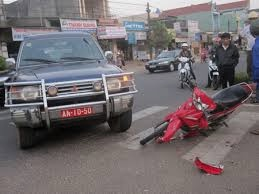plate: (61, 106, 94, 118)
